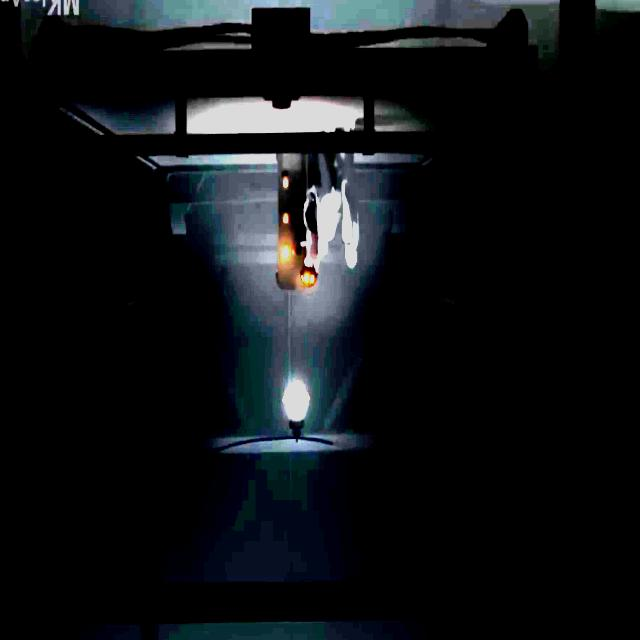boy: (300, 225, 319, 266)
zombie: (316, 154, 341, 256), (341, 153, 359, 269)
